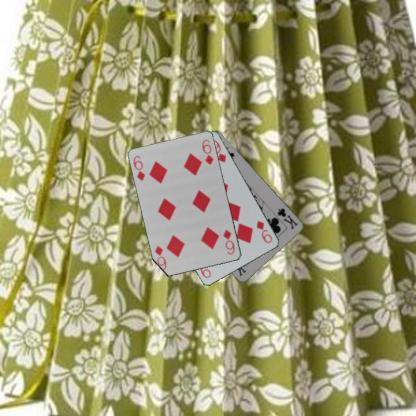6d: (131, 153, 147, 182), (221, 227, 236, 256)
9d: (254, 218, 274, 244)
Kc: (275, 205, 299, 231)
